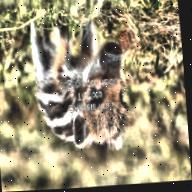boar: (21, 16, 167, 159)
